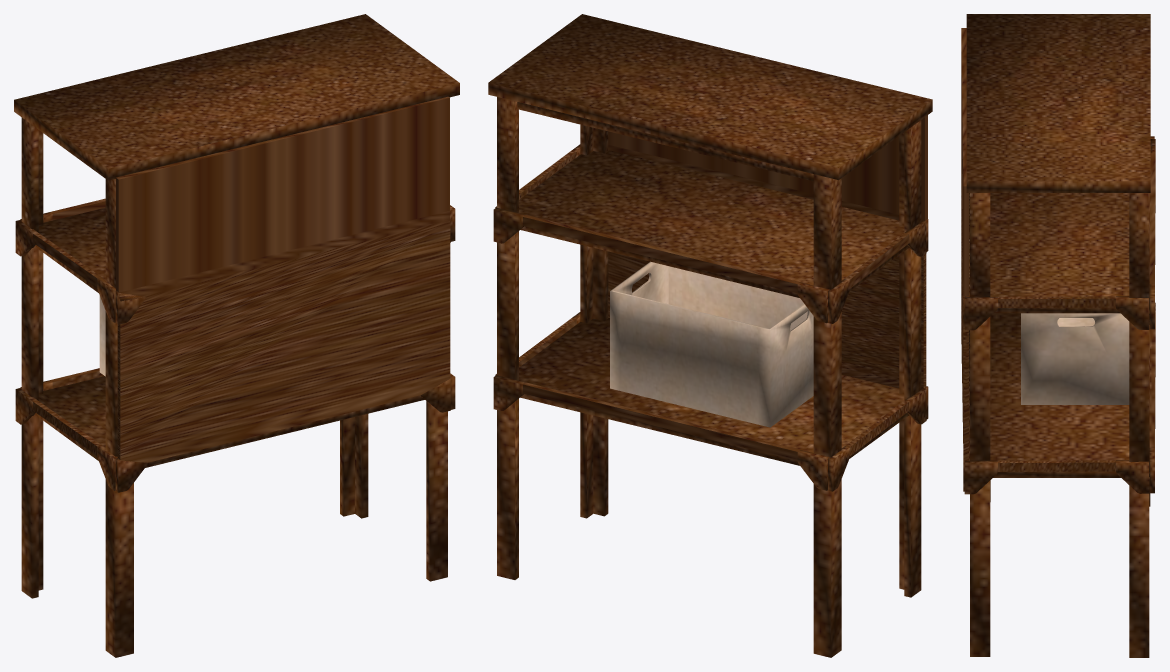
File: armario com caixa.fbx
3 views of the same model, side by side, from view 1: azimuth 30°, elevation 25°; view 2: azimuth 150°, elevation 25°; view 3: azimuth 270°, elevation 25° (orthographic). The views are drawn at different scales.
Visible parts, largest first — view 1: Bookshelf; view 2: Bookshelf, Paperbox.1; view 3: Bookshelf, Paperbox.1.
Part boxes in pixels (<box>): Bookshelf: <box>14,14,459,657</box>; Bookshelf: <box>488,14,932,657</box>; Paperbox.1: <box>610,261,813,427</box>; Bookshelf: <box>961,14,1155,657</box>; Paperbox.1: <box>1021,313,1129,404</box>.
Size of the model in its own units: 74.15 by 99.33 by 36.46.
2 materials, 2 textured.
